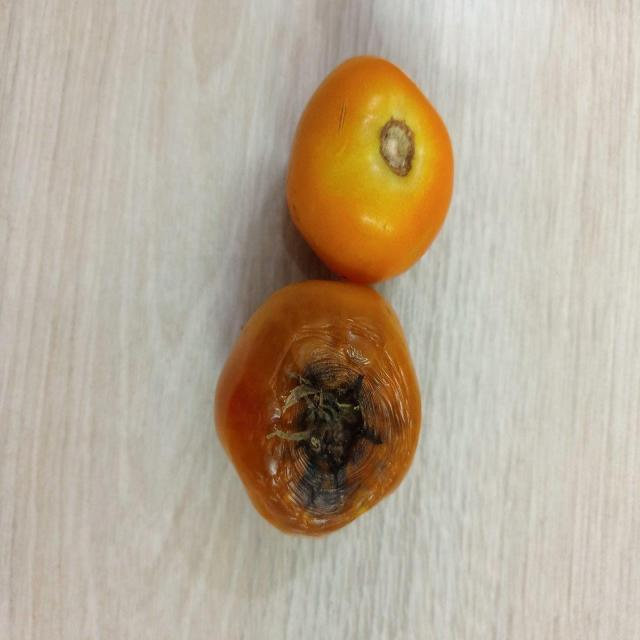Rotten: (212, 277, 420, 537)
